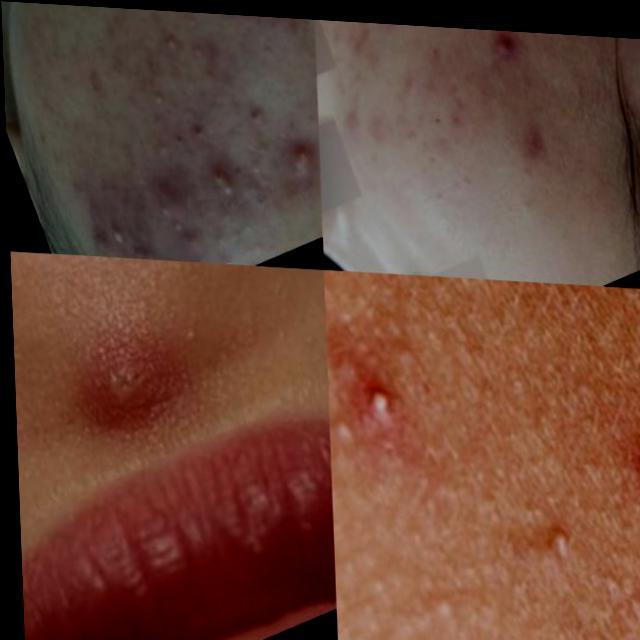8: (35, 281, 219, 481), (484, 23, 543, 76), (183, 109, 215, 148)
9: (518, 484, 599, 574), (342, 357, 411, 445), (200, 150, 247, 214), (146, 13, 192, 65), (138, 68, 178, 126), (276, 129, 315, 181), (100, 205, 137, 251), (620, 420, 640, 504)
blackheads: (511, 105, 554, 157), (232, 11, 285, 33), (365, 17, 415, 32)
pustules: (137, 169, 205, 260)
